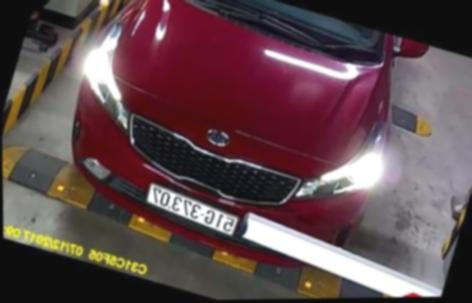License_Plate: (140, 189, 253, 240)
